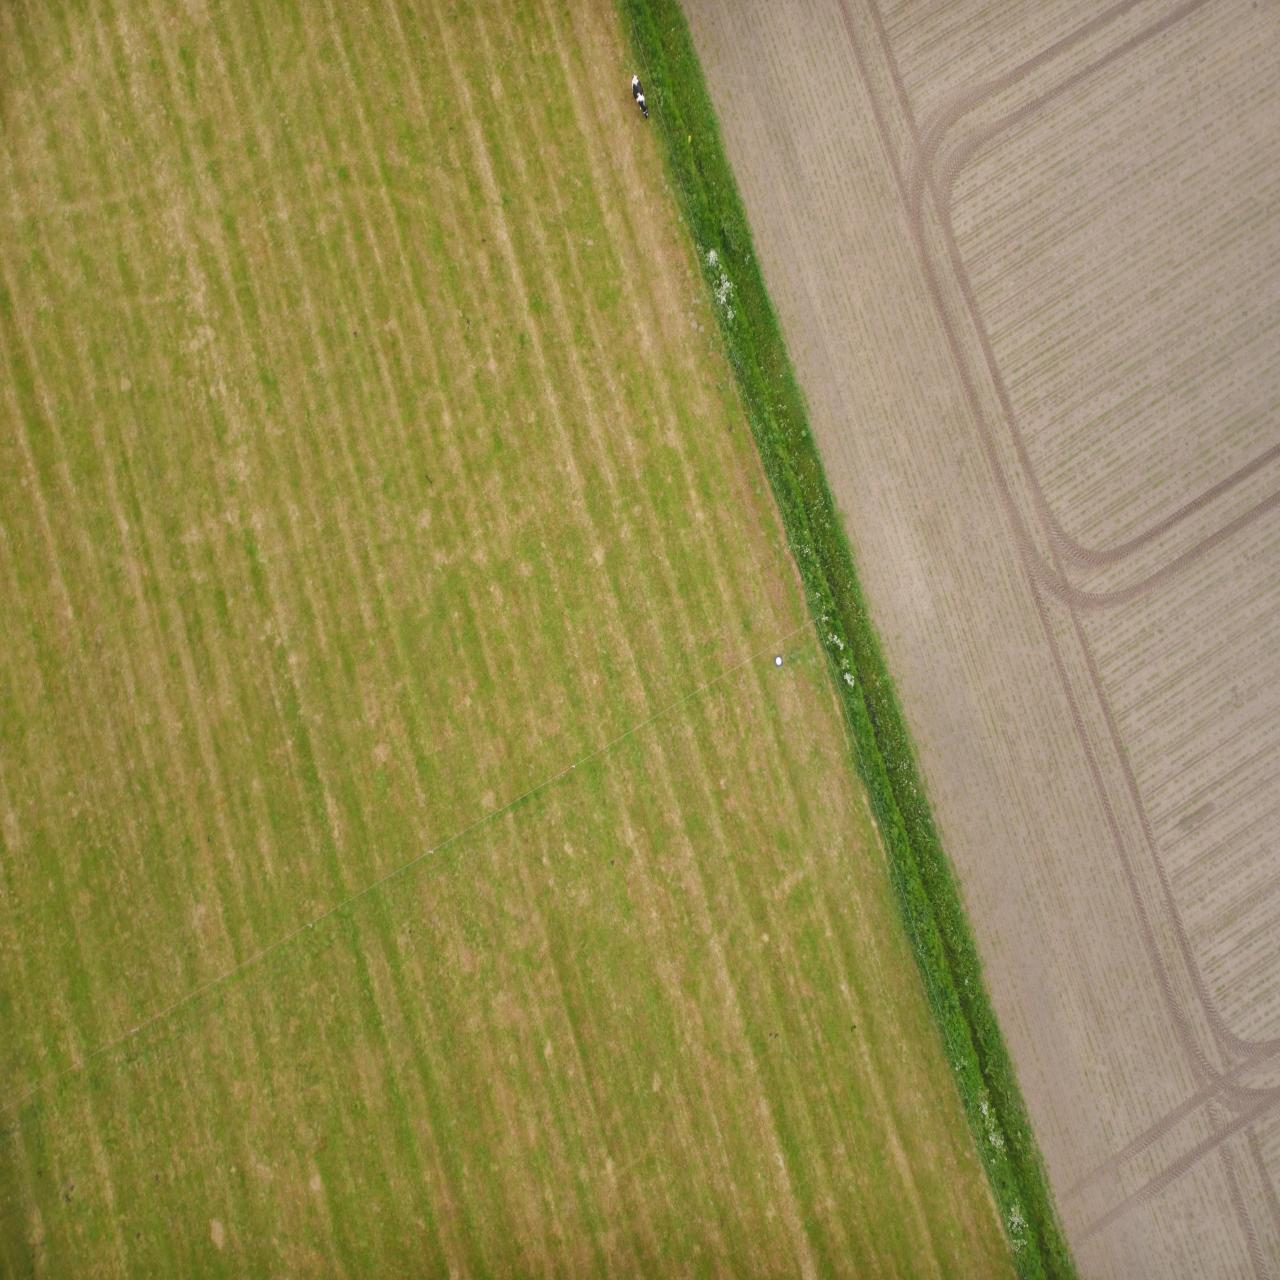cow: (632, 1159, 648, 1205)
